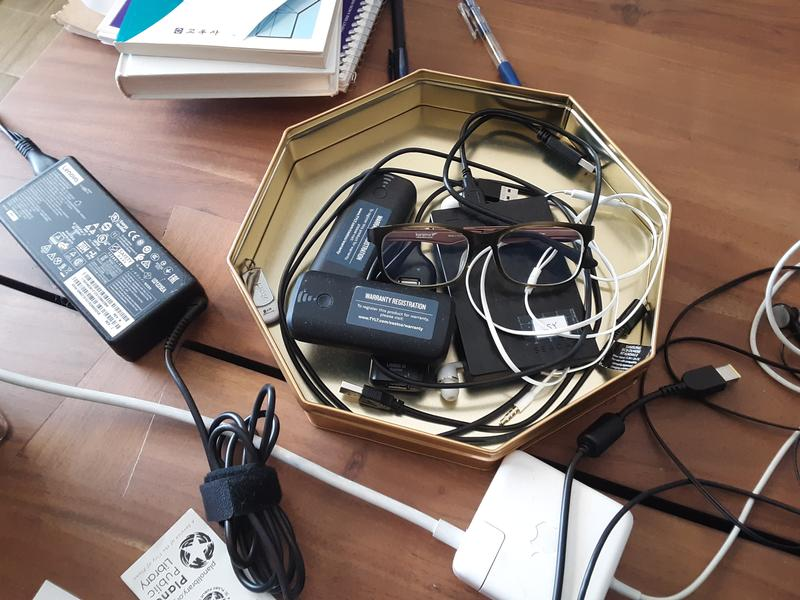glasses: (366, 225, 596, 286)
